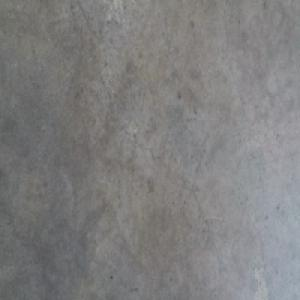Pliers: (186, 292, 198, 299)
